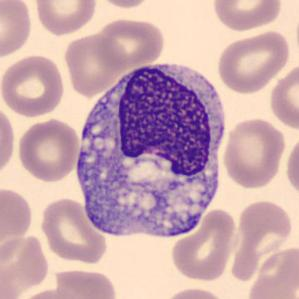Monocyte: (71, 52, 234, 244)
RBC: (169, 207, 240, 283), (214, 28, 292, 95), (37, 196, 109, 265), (232, 198, 294, 278), (221, 115, 287, 190), (16, 116, 82, 183), (0, 52, 66, 119), (61, 31, 124, 97), (92, 16, 166, 69), (244, 243, 299, 299), (31, 0, 99, 37), (0, 183, 35, 252), (211, 0, 284, 32), (268, 60, 298, 132), (52, 267, 119, 299), (0, 0, 34, 60), (0, 101, 17, 181), (284, 133, 299, 200), (160, 285, 230, 299), (12, 286, 87, 299), (93, 0, 155, 9)
